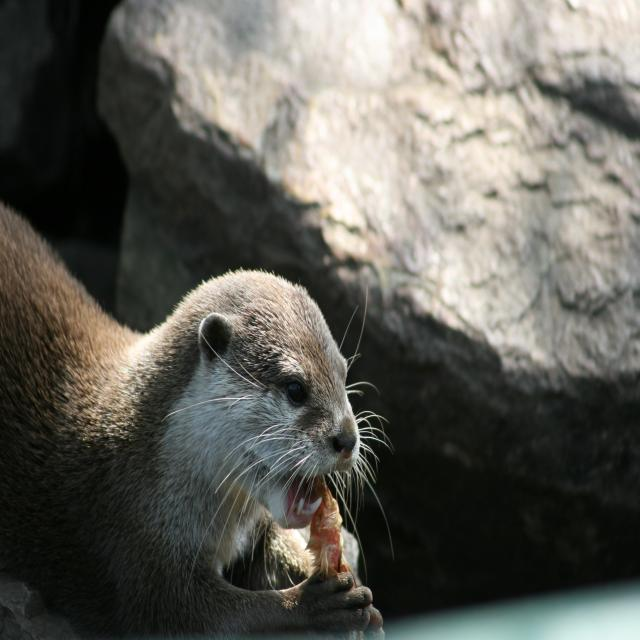otter: (1, 207, 383, 640)
